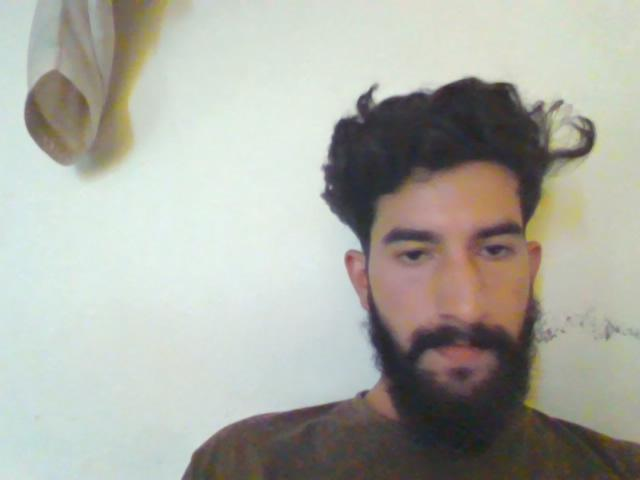hairnetless: (294, 82, 609, 262)
